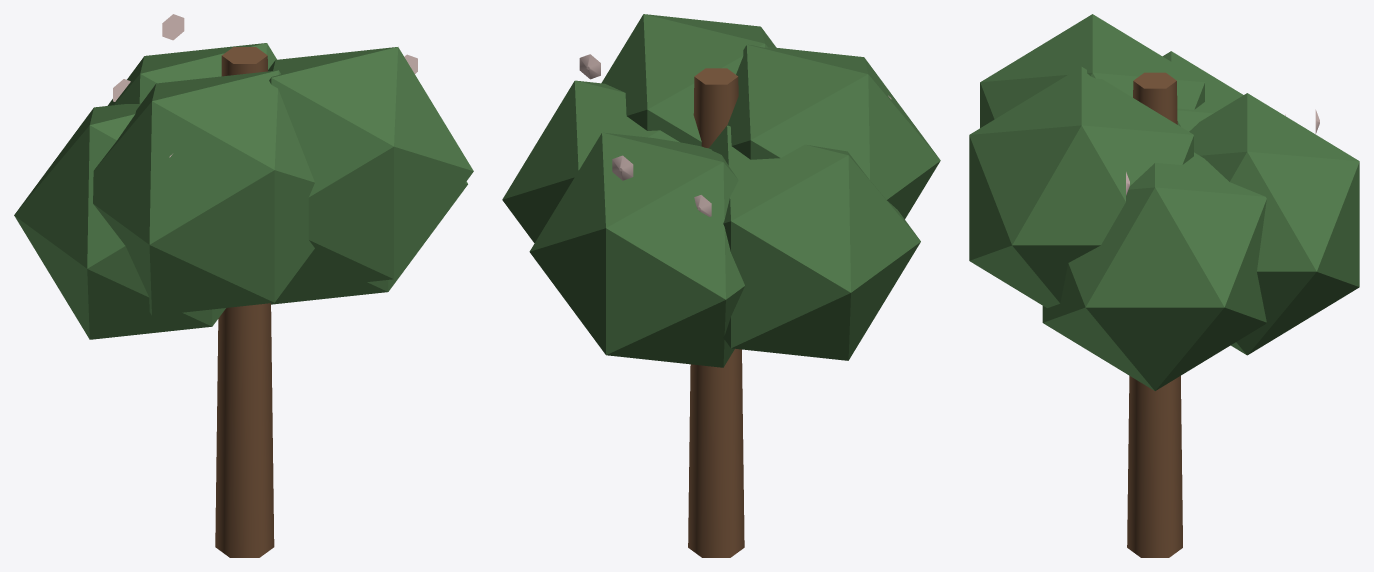
File: crop-cherry-blossom-tree-stage-4-full-bloom.source.glb
3 renders of one model, left to right at view 1: azimuth 30°, elevation 25°; view 2: azimuth 150°, elevation 25°; view 3: azimuth 270°, elevation 25°, orthographic. The views are drawn at different scales.
Parts seen in each view (by area): view 1: canopy-2, canopy-4, canopy-5, trunk, canopy-3, canopy-1; view 2: canopy-3, canopy-5, canopy-2, trunk, canopy-4, canopy-1; view 3: canopy-1, canopy-4, canopy-3, trunk, canopy-2, canopy-5.
Boxes of the visible parts, x1,y1,x2,y2 form: canopy-2: (93,70,314,315); canopy-4: (268,47,473,290); canopy-5: (14,103,225,339); trunk: (215,47,274,557); canopy-3: (107,43,276,105); canopy-1: (271,181,467,304); canopy-3: (529,132,744,367); canopy-5: (712,125,920,360); canopy-2: (709,44,940,219); trunk: (688,68,744,557); canopy-4: (601,14,776,146); canopy-1: (502,80,679,242); canopy-1: (1042,152,1266,390); canopy-4: (969,66,1193,308); canopy-3: (1189,93,1359,355); trunk: (1127,72,1182,557); canopy-2: (980,14,1204,127); canopy-5: (1162,51,1243,131).
Bounding box in the file's own units: 2.1 × 2.7 × 2.01.
